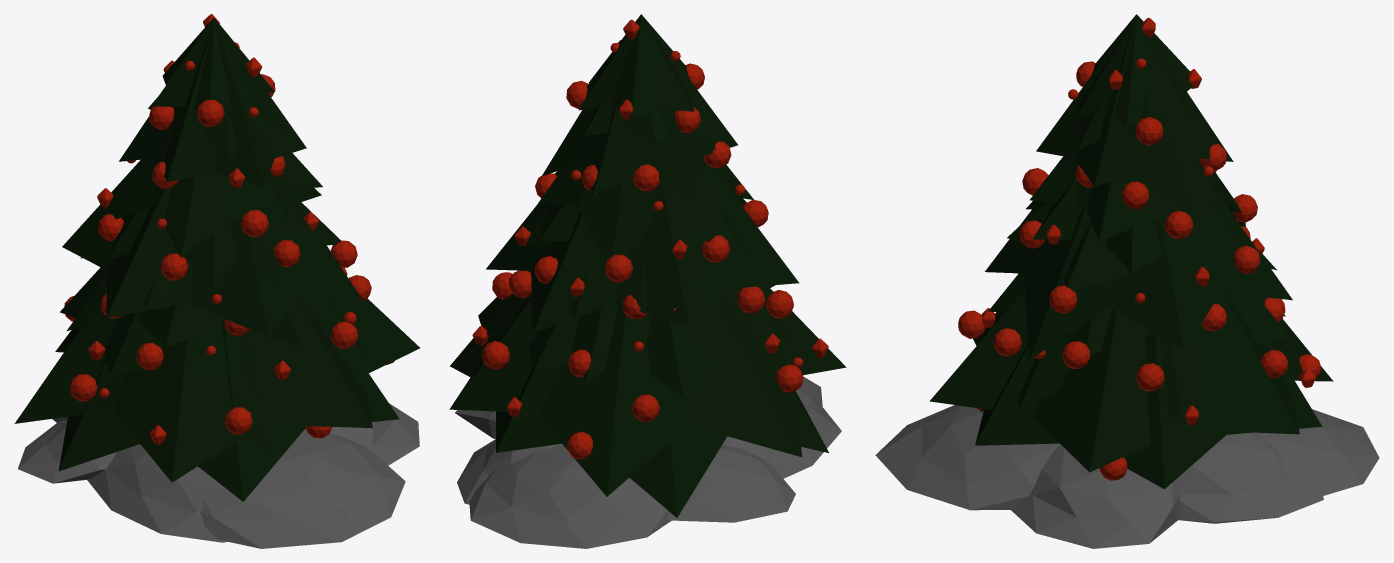
Rendered from Christmas2021_Final.obj.
The picture shows the model from 3 angles, left to right: view 1: azimuth 30°, elevation 25°; view 2: azimuth 150°, elevation 25°; view 3: azimuth 270°, elevation 25°; orthographic projection. The views are drawn at different scales.
Visible parts, largest first — view 1: Tree_E, Icosphere.184, Icosphere.206, Icosphere.195, Icosphere.197, Icosphere.213, Icosphere.196, Icosphere.210, Icosphere.211, Icosphere.186, Icosphere.225, Icosphere.188 (+1 smaller); view 2: Tree_E, Icosphere.184, Icosphere.199, Icosphere.192, Icosphere.190, Icosphere.211, Icosphere.205, Icosphere.206, Icosphere.188, Icosphere.201, Icosphere.198, Icosphere.191 (+4 smaller); view 3: Tree_E, Icosphere.184, Icosphere.210, Icosphere.203, Icosphere.202, Icosphere.209, Icosphere.212, Icosphere.225, Icosphere.204, Icosphere.195, Icosphere.200.
Boxes of the visible parts, x1,y1,x2,y2 form: Tree_E: (14, 18, 420, 501); Icosphere.184: (18, 403, 419, 548); Icosphere.206: (69, 374, 97, 401); Icosphere.195: (225, 407, 252, 434); Icosphere.197: (160, 253, 188, 280); Icosphere.213: (196, 99, 224, 126); Icosphere.196: (241, 210, 268, 236); Icosphere.210: (330, 321, 357, 349); Icosphere.211: (136, 342, 163, 370); Icosphere.186: (273, 240, 300, 267); Icosphere.225: (330, 240, 357, 267); Icosphere.188: (98, 214, 123, 241); Tree_E: (449, 14, 846, 517); Icosphere.184: (455, 376, 841, 548); Icosphere.199: (604, 254, 632, 282); Icosphere.192: (482, 341, 509, 369); Icosphere.190: (631, 394, 659, 421); Icosphere.211: (765, 290, 793, 318); Icosphere.205: (737, 286, 765, 313); Icosphere.206: (776, 364, 803, 392); Icosphere.188: (702, 235, 729, 262); Icosphere.201: (567, 431, 593, 459); Icosphere.198: (632, 164, 659, 190); Icosphere.191: (509, 270, 531, 298); Tree_E: (930, 14, 1333, 489); Icosphere.184: (875, 405, 1379, 548); Icosphere.210: (993, 328, 1021, 356); Icosphere.203: (1136, 363, 1164, 391); Icosphere.202: (1062, 341, 1089, 369); Icosphere.209: (1164, 210, 1193, 239); Icosphere.212: (1135, 117, 1163, 145); Icosphere.225: (1049, 285, 1076, 313); Icosphere.204: (1121, 181, 1148, 208); Icosphere.195: (958, 310, 985, 338); Icosphere.200: (1234, 245, 1260, 273).
Bounding box in the file's own units: 4.37 × 5.24 × 5.15.
7 materials, 4 textured.
